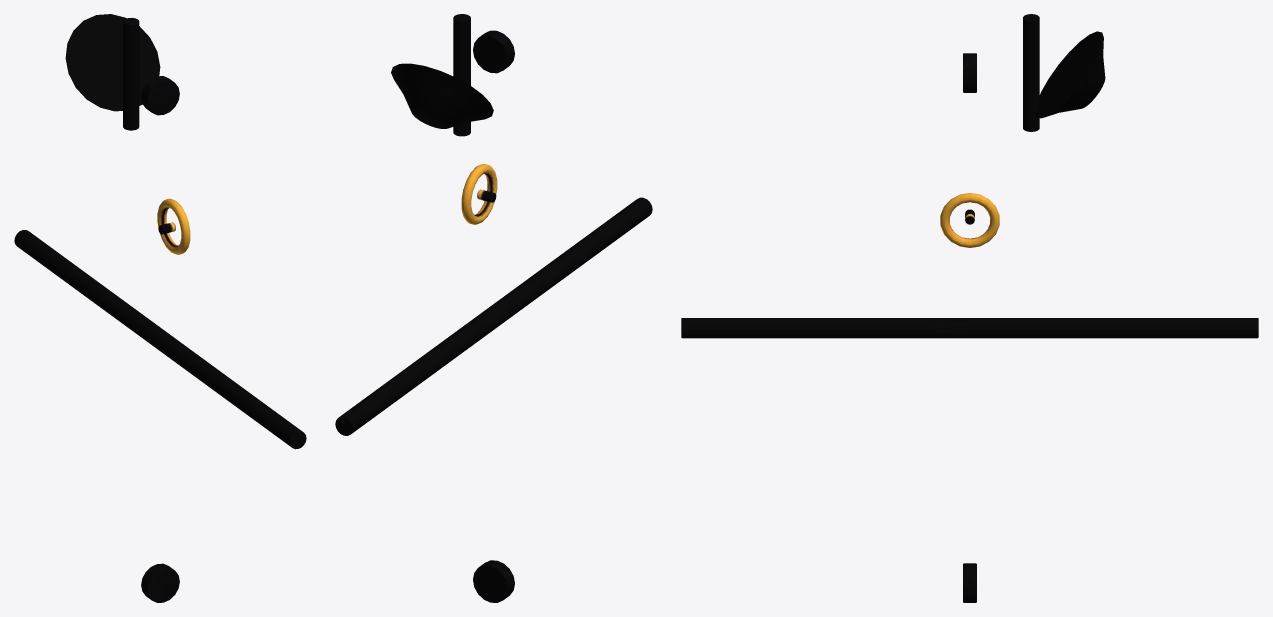
Rendered from LV_shower_head.glb.
The picture shows the model from 3 angles, left to right: view 1: azimuth 30°, elevation 25°; view 2: azimuth 150°, elevation 25°; view 3: azimuth 270°, elevation 25°; orthographic projection. The views are drawn at different scales.
Parts seen in each view (by area): view 1: LV_shower_head; view 2: LV_shower_head; view 3: LV_shower_head.
Boxes of the visible parts, bbox=[...] form: LV_shower_head: bbox=[14, 14, 306, 602]; LV_shower_head: bbox=[335, 14, 652, 602]; LV_shower_head: bbox=[681, 14, 1258, 602].
Bounding box in the file's own units: 0.2976 × 1.79 × 1.6.
Materials: 1 (1 with a texture image).
